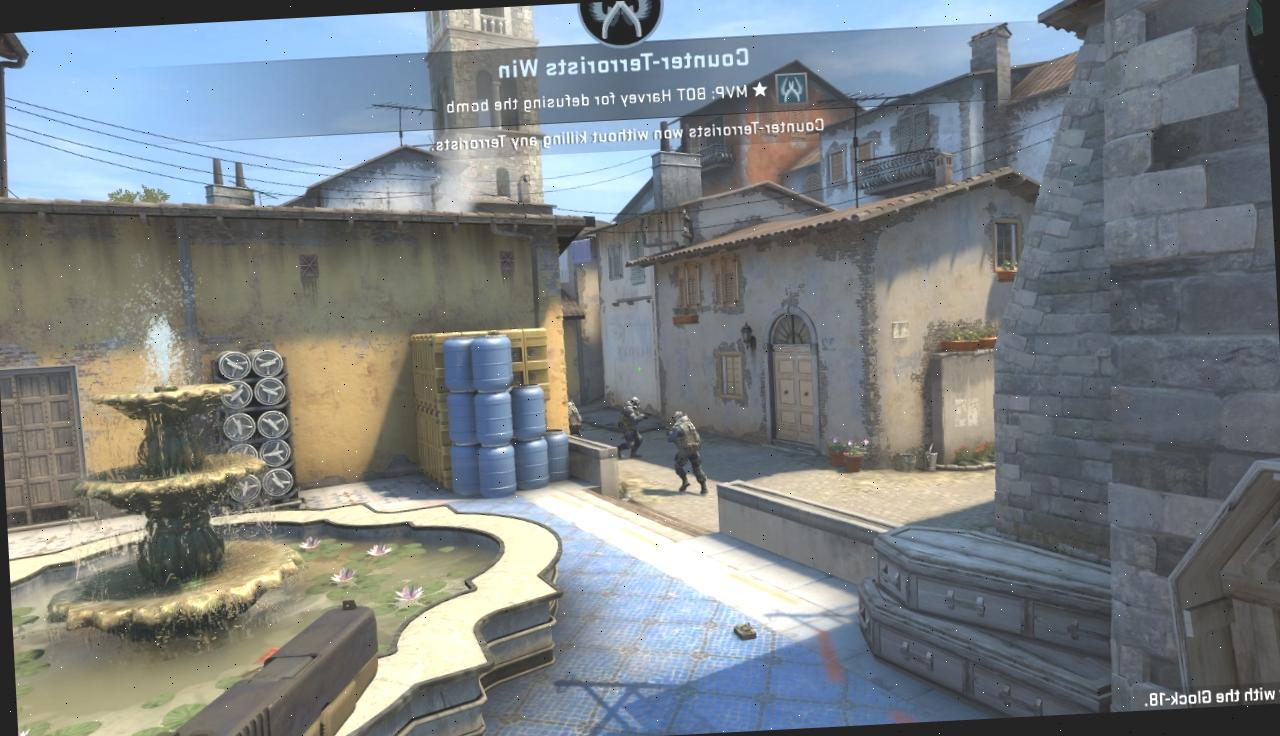ct: (666, 410, 708, 495), (615, 396, 647, 459), (568, 396, 582, 438)
cthead: (673, 411, 683, 423), (631, 396, 640, 408)
pistol: (120, 596, 383, 736)
